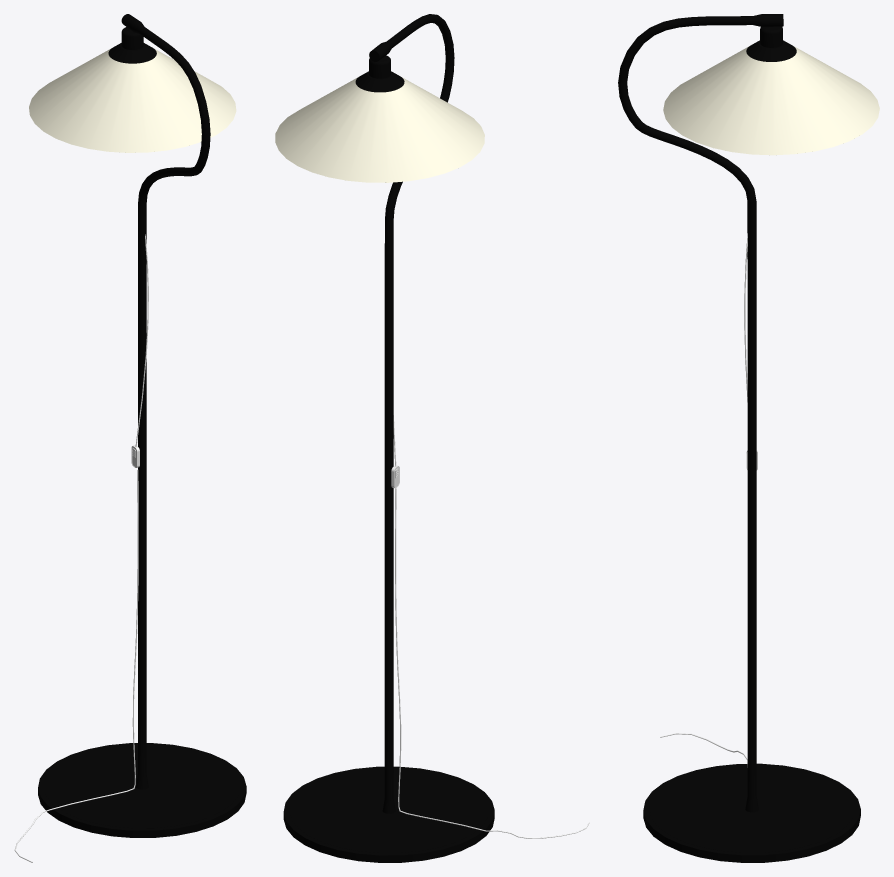
The model's file is IKEA-Floor_Reading_Lamp-3D.DAE.
The picture shows the model from 3 angles, left to right: view 1: azimuth 30°, elevation 25°; view 2: azimuth 150°, elevation 25°; view 3: azimuth 270°, elevation 25°; orthographic projection. The views are drawn at different scales.
Visible parts, largest first — view 1: Rectangle01; view 2: Rectangle01; view 3: Rectangle01.
Part boxes in pixels (<box>): Rectangle01: <box>14,14,246,862</box>; Rectangle01: <box>275,14,589,862</box>; Rectangle01: <box>618,14,879,862</box>.
Bounding box in the file's own units: 607 × 1793 × 530.
